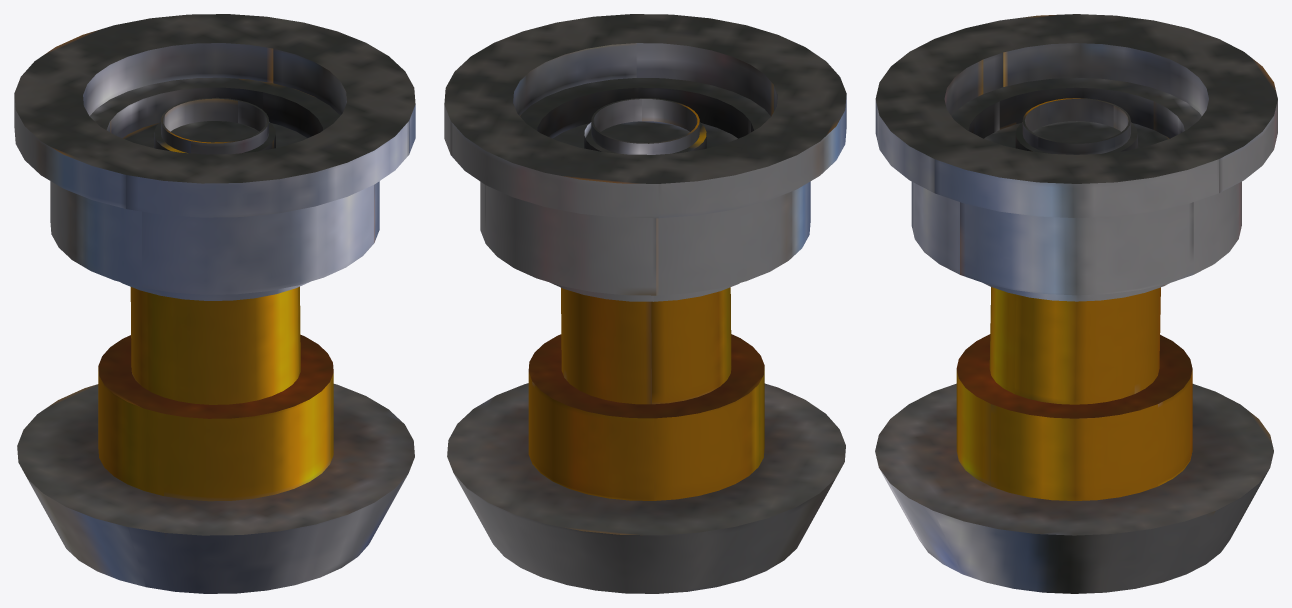
The model's file is test_emitter.obj.
3 renders of one model, left to right at view 1: azimuth 30°, elevation 25°; view 2: azimuth 150°, elevation 25°; view 3: azimuth 270°, elevation 25°, orthographic.
Visible parts, largest first — view 1: emitter.001; view 2: emitter.001; view 3: emitter.001.
Part boxes in pixels (x1=…): emitter.001: x1=14, y1=14, x2=415, y2=593; emitter.001: x1=444, y1=14, x2=846, y2=593; emitter.001: x1=875, y1=14, x2=1277, y2=593.
Size of the model in its own units: 0.1536 by 0.1803 by 0.1538.
